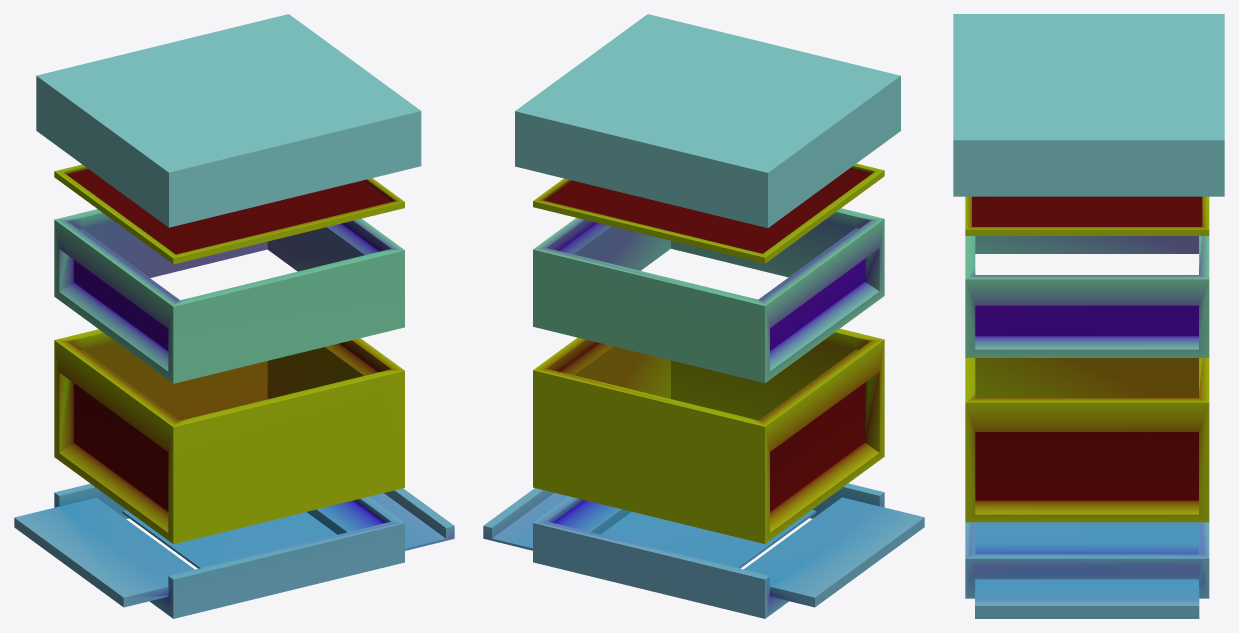
The picture shows the model from 3 angles, left to right: view 1: azimuth 30°, elevation 25°; view 2: azimuth 150°, elevation 25°; view 3: azimuth 270°, elevation 25°; orthographic projection. The views are drawn at different scales.
Parts seen in each view (by area): view 1: housing, cap, housing.001, end_rail, plate; view 2: housing, cap, housing.001, end_rail, plate; view 3: cap, housing, housing.001, end_rail, plate.
Boxes of the visible parts, <box> form: housing: <box>54,329,404,544</box>; cap: <box>36,14,421,227</box>; housing.001: <box>54,209,404,383</box>; end_rail: <box>14,483,454,618</box>; plate: <box>54,164,404,264</box>; housing: <box>533,328,884,543</box>; cap: <box>515,14,900,227</box>; housing.001: <box>533,208,884,383</box>; end_rail: <box>483,483,924,618</box>; plate: <box>533,163,884,263</box>; cap: <box>953,14,1224,196</box>; housing: <box>965,358,1209,522</box>; housing.001: <box>965,236,1209,357</box>; end_rail: <box>965,522,1209,618</box>; plate: <box>965,196,1209,235</box>.
Size of the model in its own units: 0.4587 by 0.6 by 0.3182.
